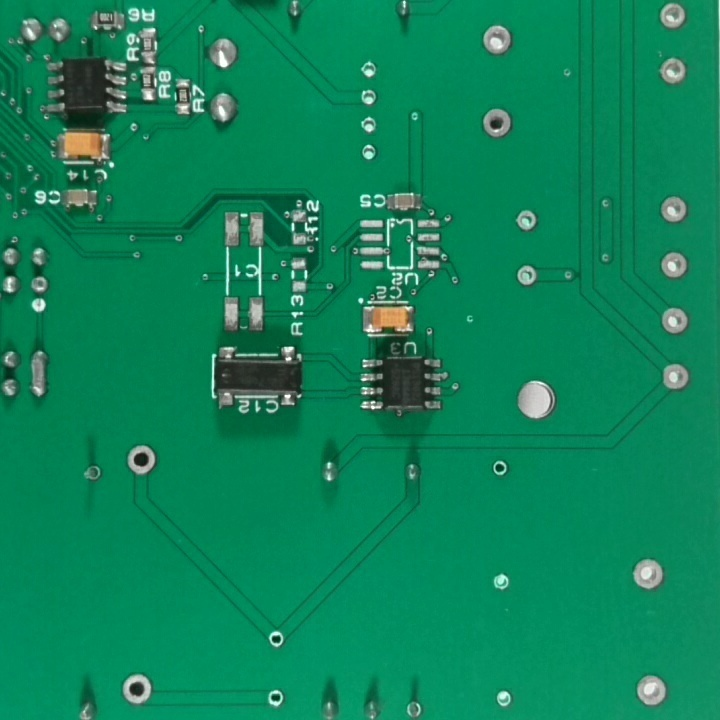F: (631, 671, 672, 709), (632, 553, 670, 593), (480, 105, 518, 142), (124, 441, 159, 480), (481, 20, 516, 58), (654, 53, 690, 89), (121, 669, 154, 708), (659, 358, 691, 397), (654, 1, 690, 35), (656, 191, 690, 226), (659, 303, 692, 336), (659, 248, 690, 281), (512, 205, 543, 235), (25, 272, 53, 300), (516, 259, 539, 290), (80, 460, 104, 486), (264, 684, 287, 710), (487, 457, 511, 480), (490, 568, 513, 592), (359, 112, 382, 136), (358, 86, 381, 109), (493, 686, 515, 709), (358, 58, 381, 80), (358, 141, 381, 163), (405, 697, 424, 720), (266, 628, 286, 649)
P: (27, 344, 54, 403)
